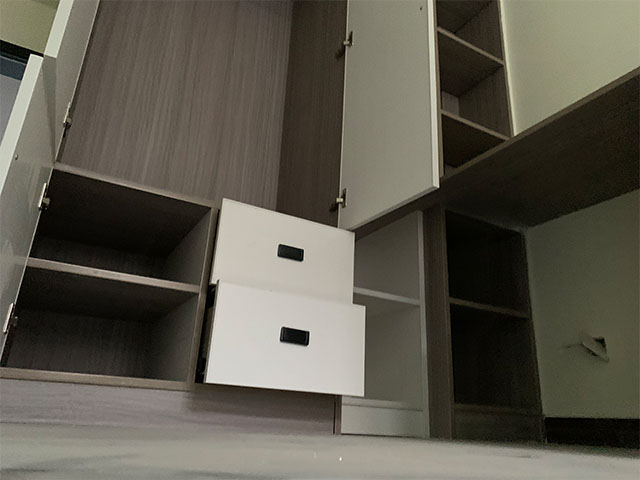cabinet: (1, 163, 426, 448)
